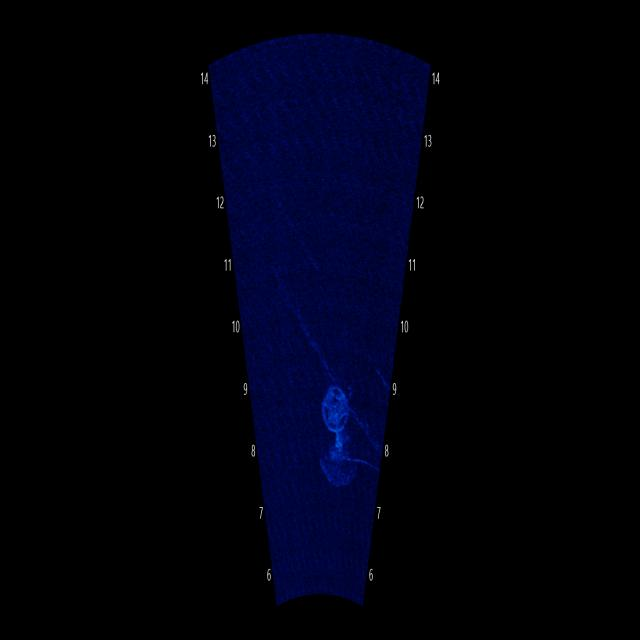circle: (317, 370, 359, 440)
